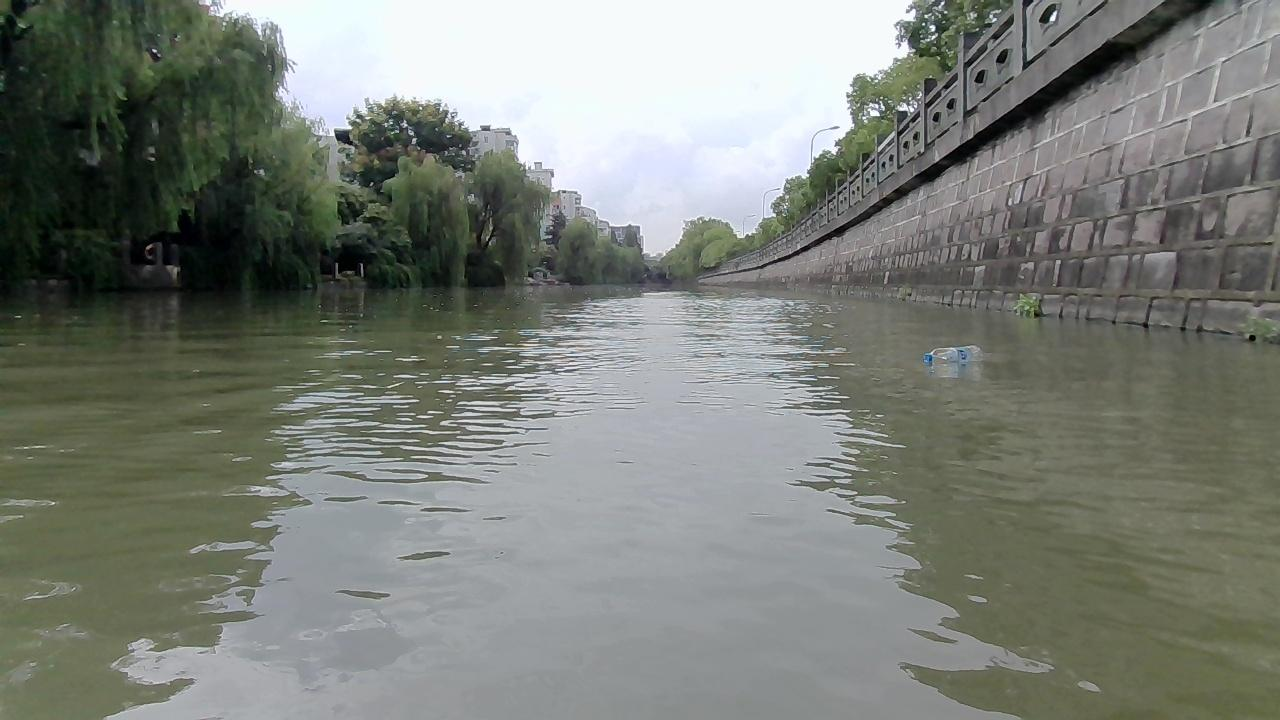bottle: (922, 343, 983, 363)
